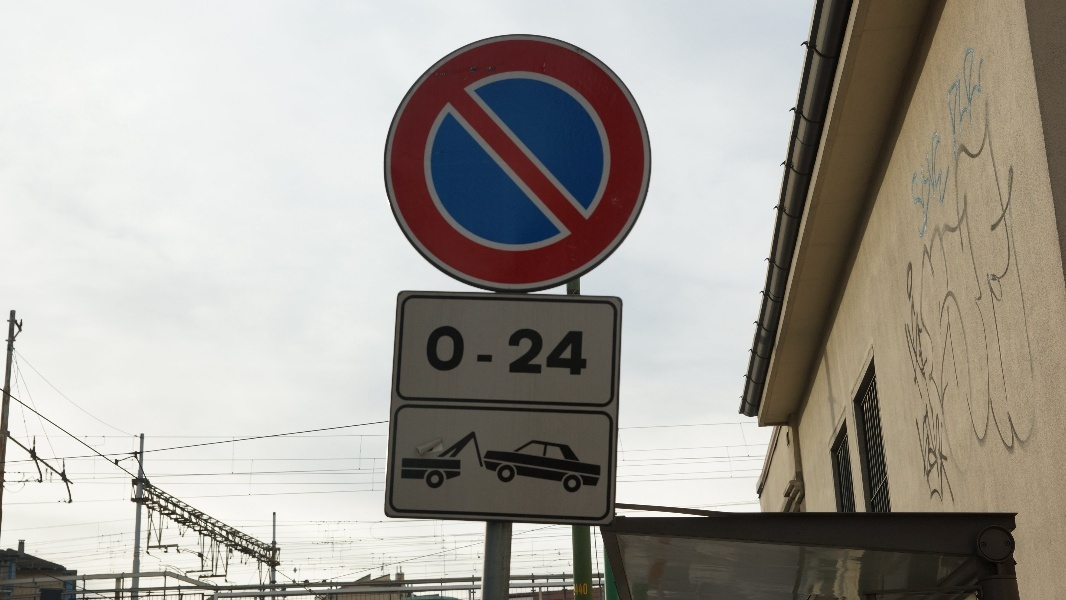text: (913, 45, 928, 242), (929, 45, 944, 242), (945, 45, 960, 242), (961, 45, 976, 242), (977, 45, 992, 242), (993, 45, 1000, 242), (907, 45, 912, 242), (433, 321, 448, 379), (449, 321, 464, 379), (465, 321, 480, 379), (481, 321, 496, 379), (497, 321, 512, 379), (513, 321, 528, 379), (529, 321, 544, 379), (545, 321, 560, 379), (561, 321, 576, 379), (577, 321, 592, 379), (429, 321, 432, 379)
